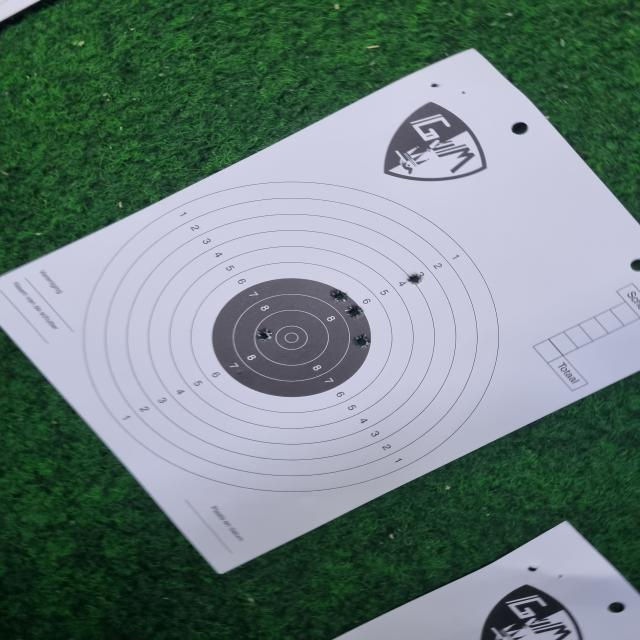4: (406, 274, 423, 285)
7: (353, 334, 370, 348), (331, 290, 348, 302), (345, 307, 363, 318)
9: (256, 329, 273, 341)
Target: (80, 181, 500, 493)
black_contour: (210, 278, 370, 397)
